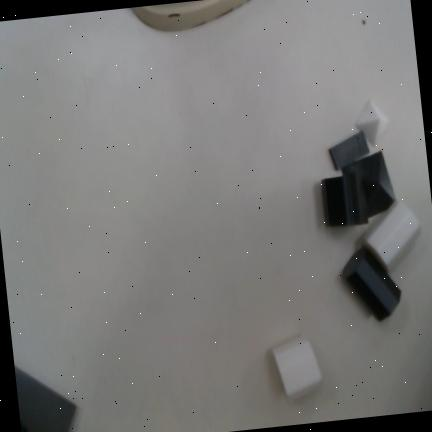Paralelepipedo: (328, 130, 369, 171)
Piramide: (341, 150, 396, 219), (355, 101, 390, 148)
Prisma_hexagonal: (361, 201, 421, 277), (342, 248, 402, 323), (272, 334, 324, 405), (320, 173, 369, 228)
